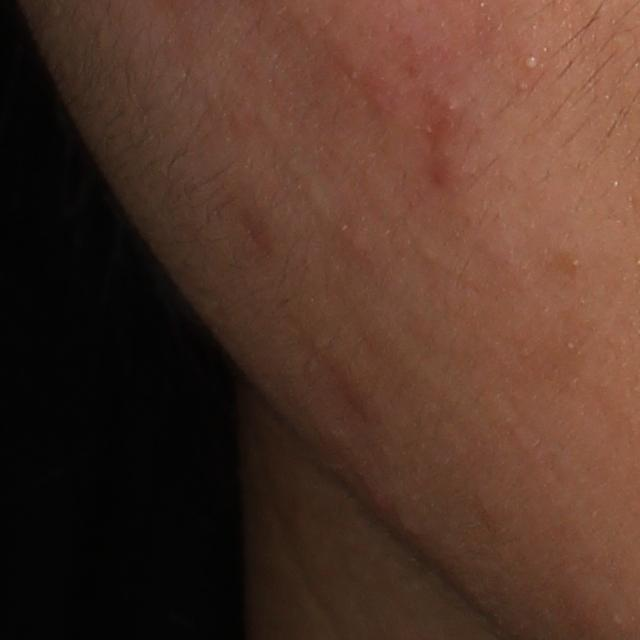comedo: (446, 100, 461, 115)
pustule: (519, 51, 544, 74)
